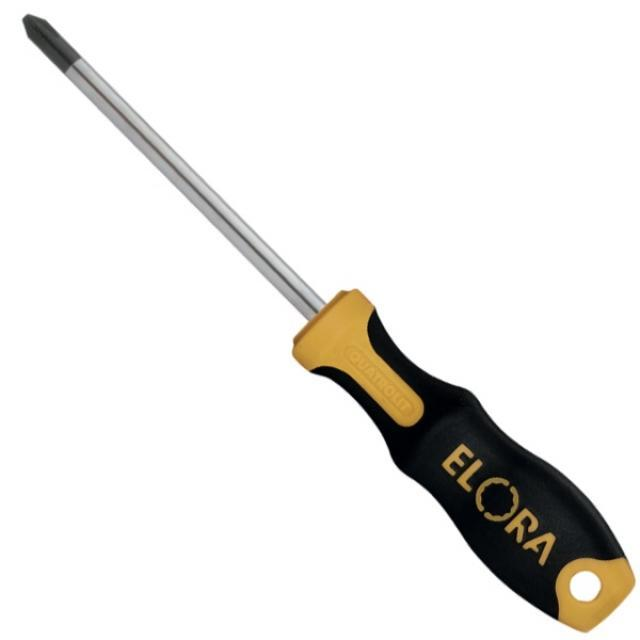screwdriver: (19, 11, 636, 634)
